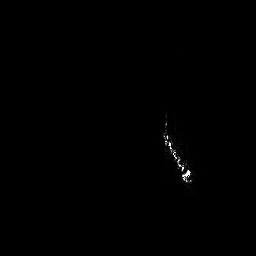ship: (162, 113, 192, 183)
